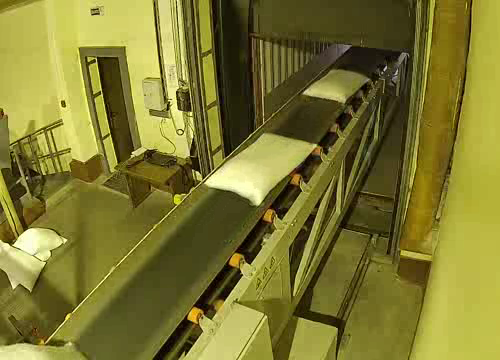bag: (197, 129, 317, 207), (303, 65, 373, 105), (0, 338, 90, 360)
